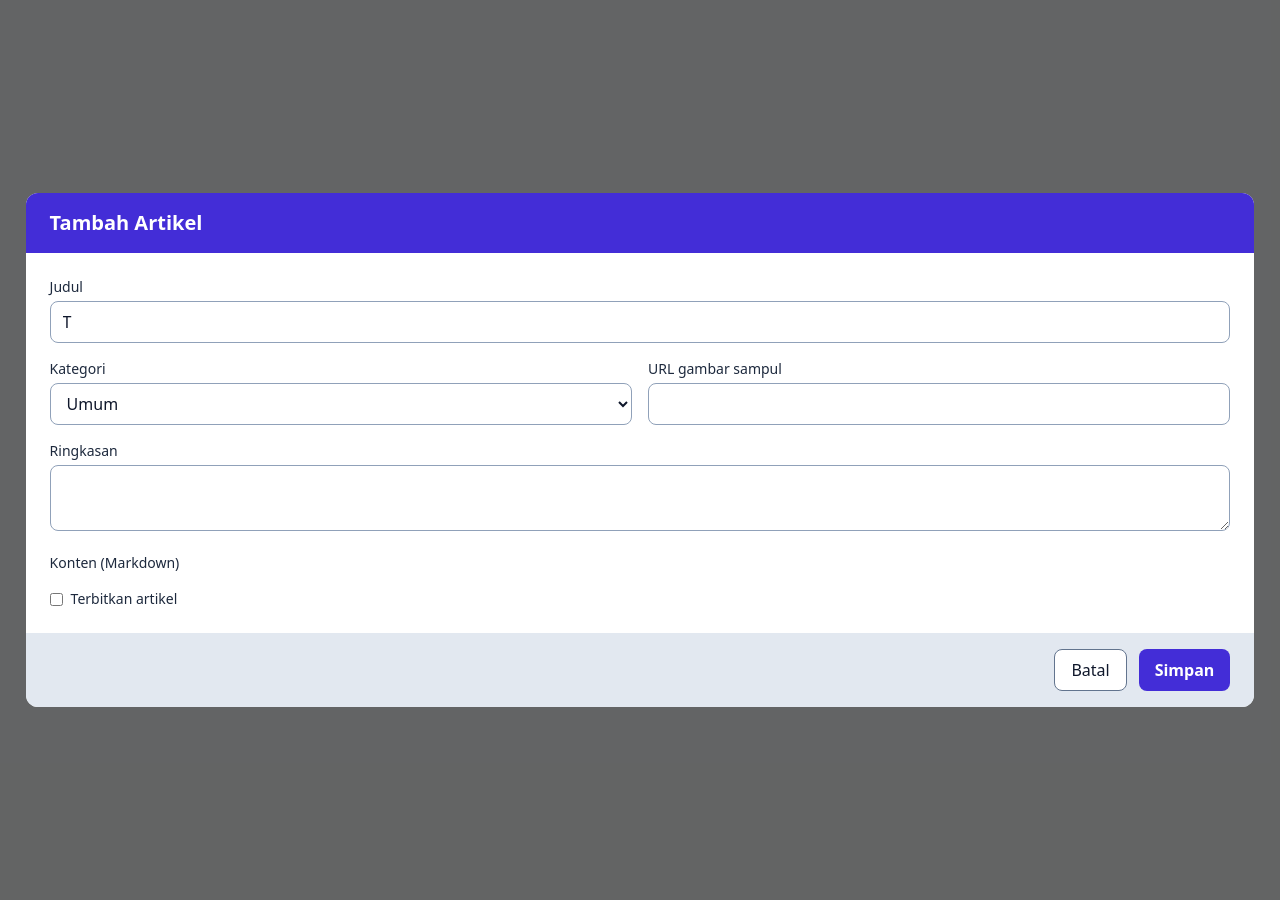
Scenario: PostModal › menampilkan error API dan dapat mencoba lagi
Step 1. Click the button "Simpan" → (1185, 670), box [1139,649,1230,691]
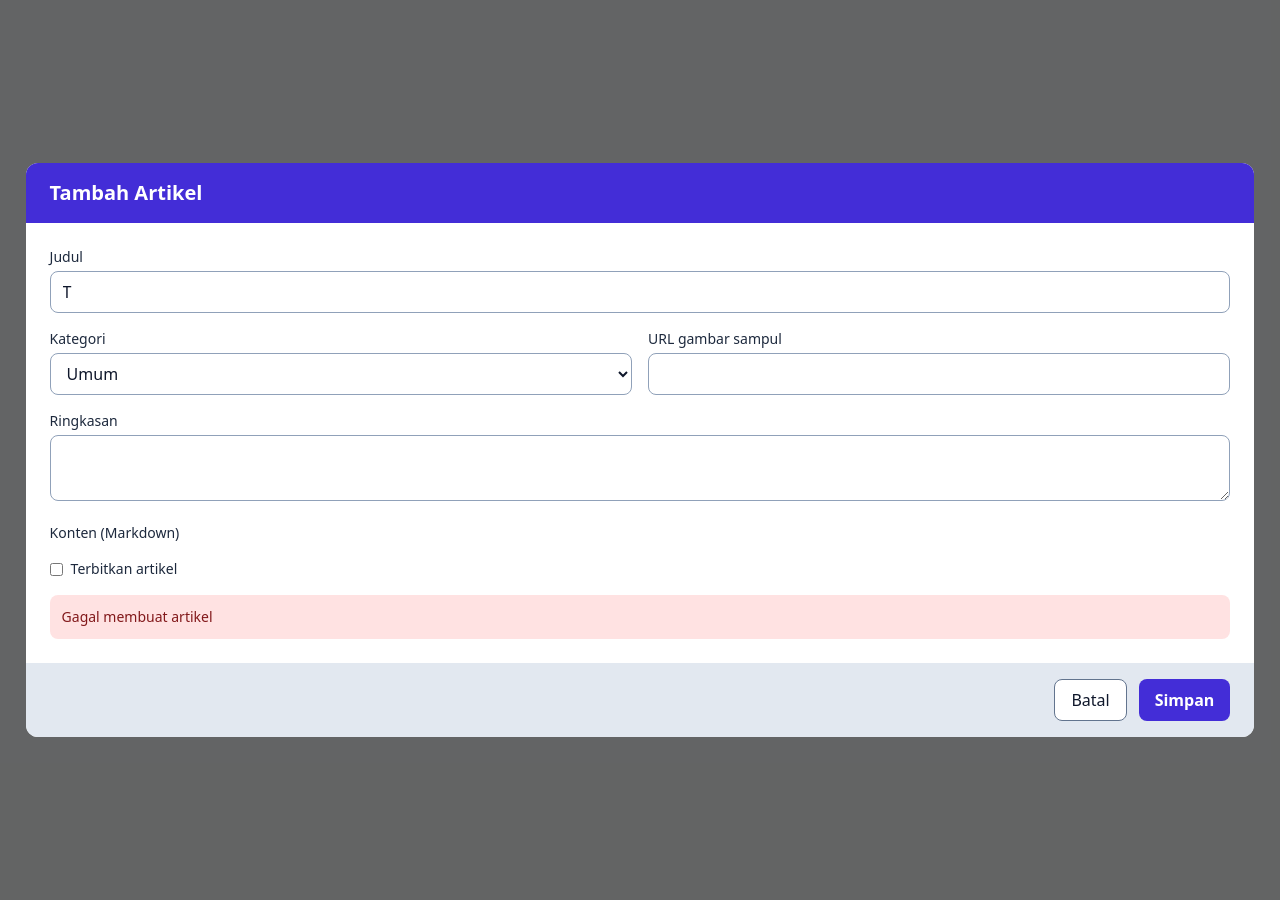
Expected: the button "Simpan" is enabled, [1139,679,1230,721]
Expected: the message reads "Gagal membuat artikel", [62,607,212,626]
